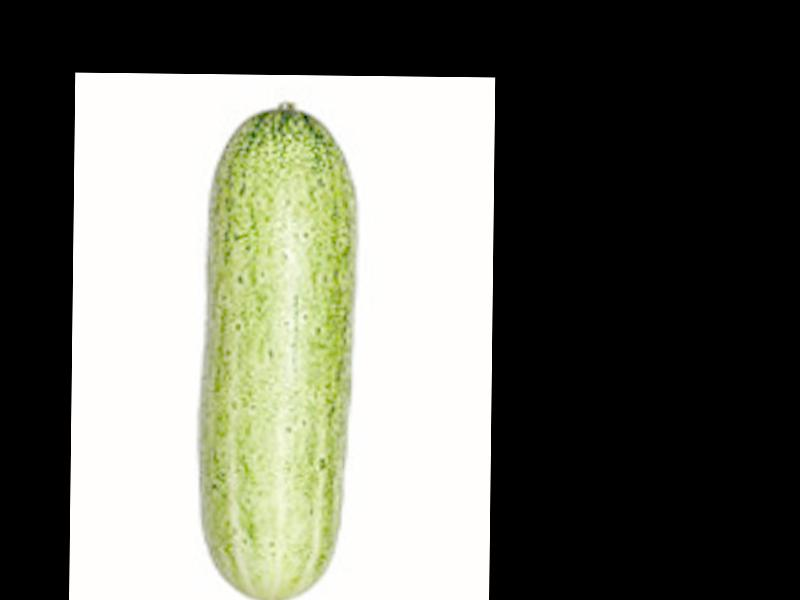Cucumber: (200, 100, 357, 600)
